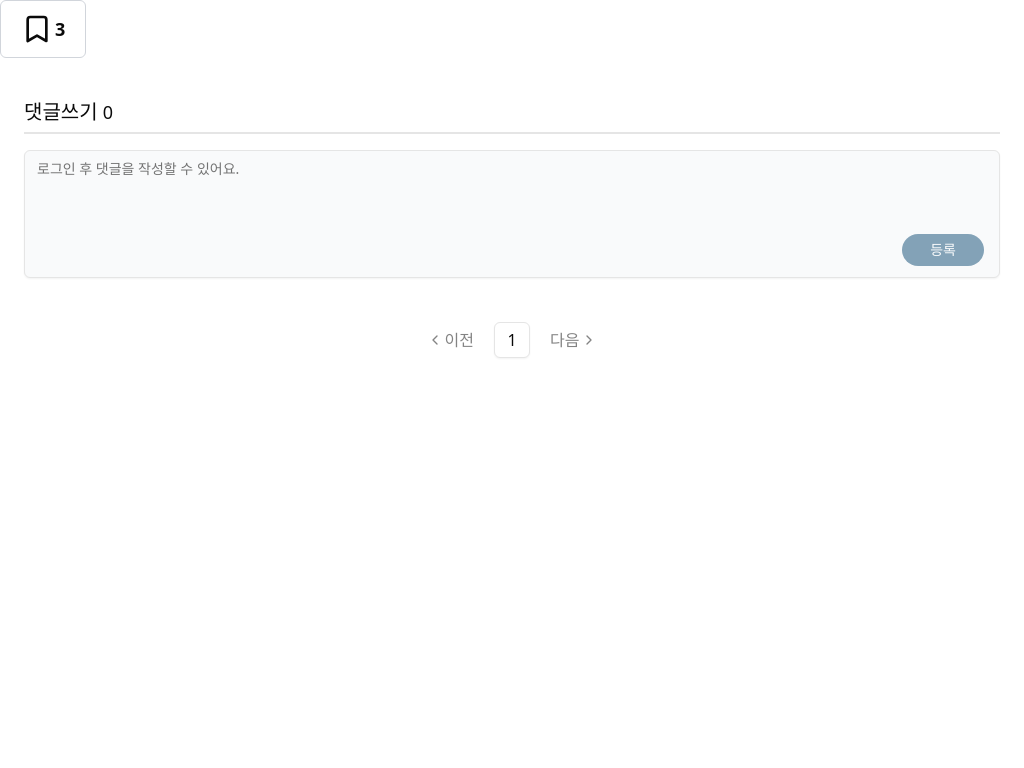
Test: src/views/review/detail/ui/ReviewDetailInteractive.tsx › 기능 테스트 › 로그인 하지 않은 사용자가 북마크, 댓글 영역을 클릭하면 로그인 유도 모달을 표시한다.
Step 1. Click the button named "북마크 추가하기" → click(43, 29), box [0,0,86,58]
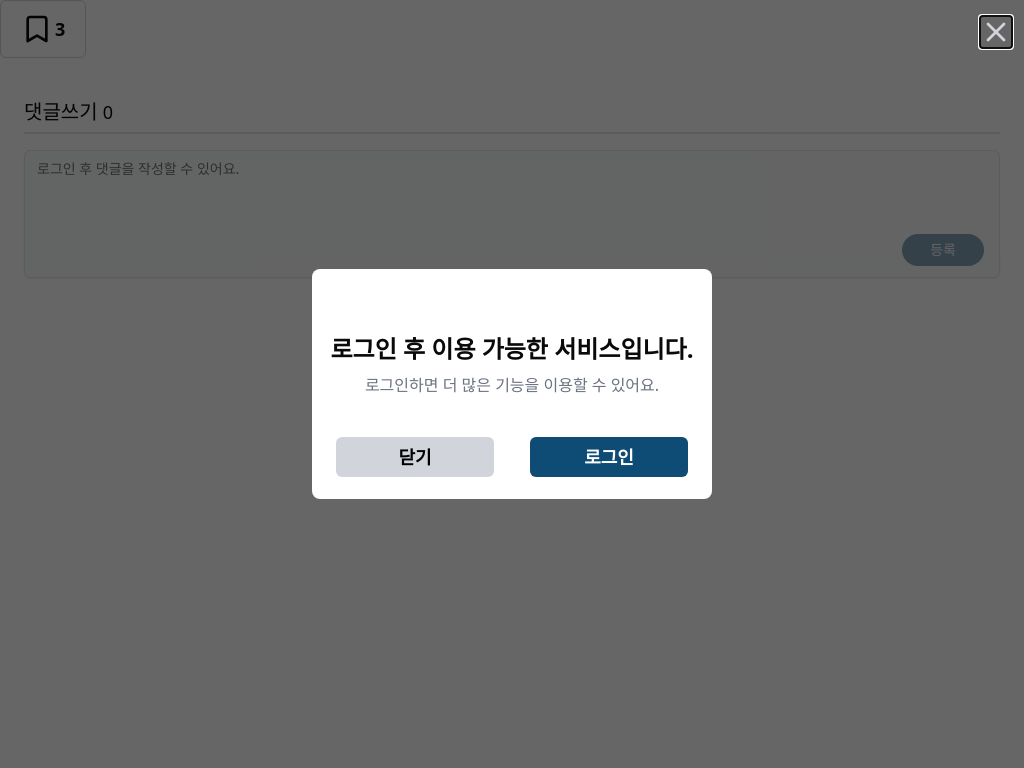
Now the heading "로그인 후 이용 가능한 서비스입니다." is shown, box [330,333,694,365]
Step 2. Click the button "닫기" → click(415, 457), box [336,437,494,477]
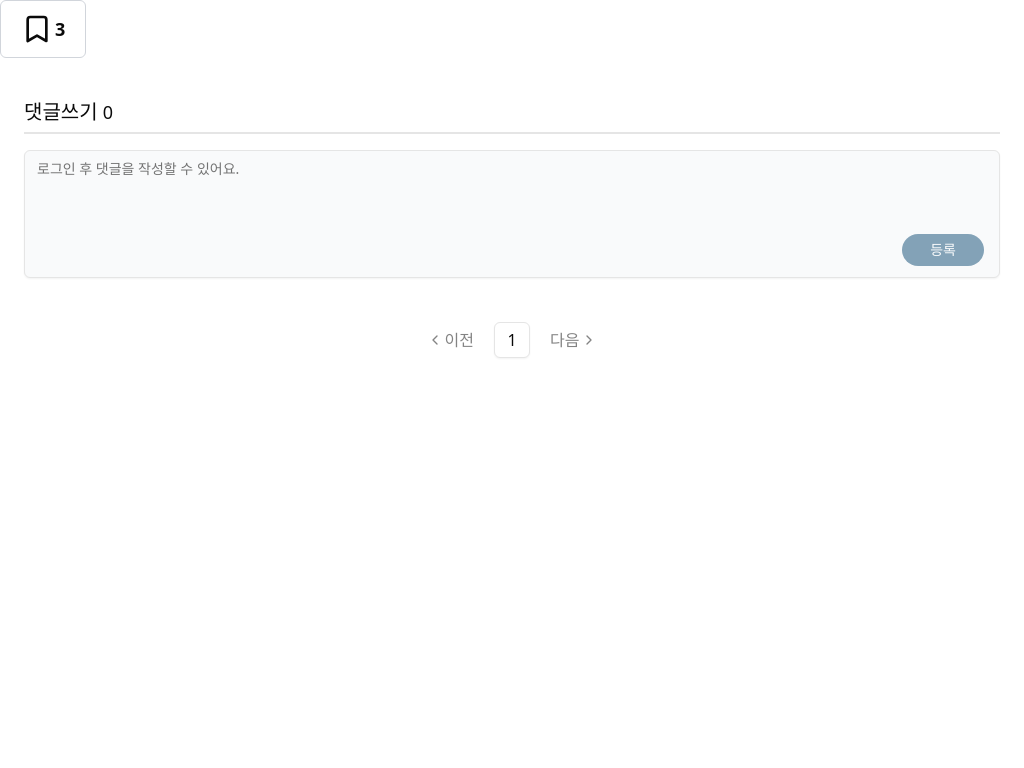
Step 3. Click the text box with placeholder "로그인 후 댓글을 작성할 수 있어요." → click(512, 214), box [24,150,1000,278]
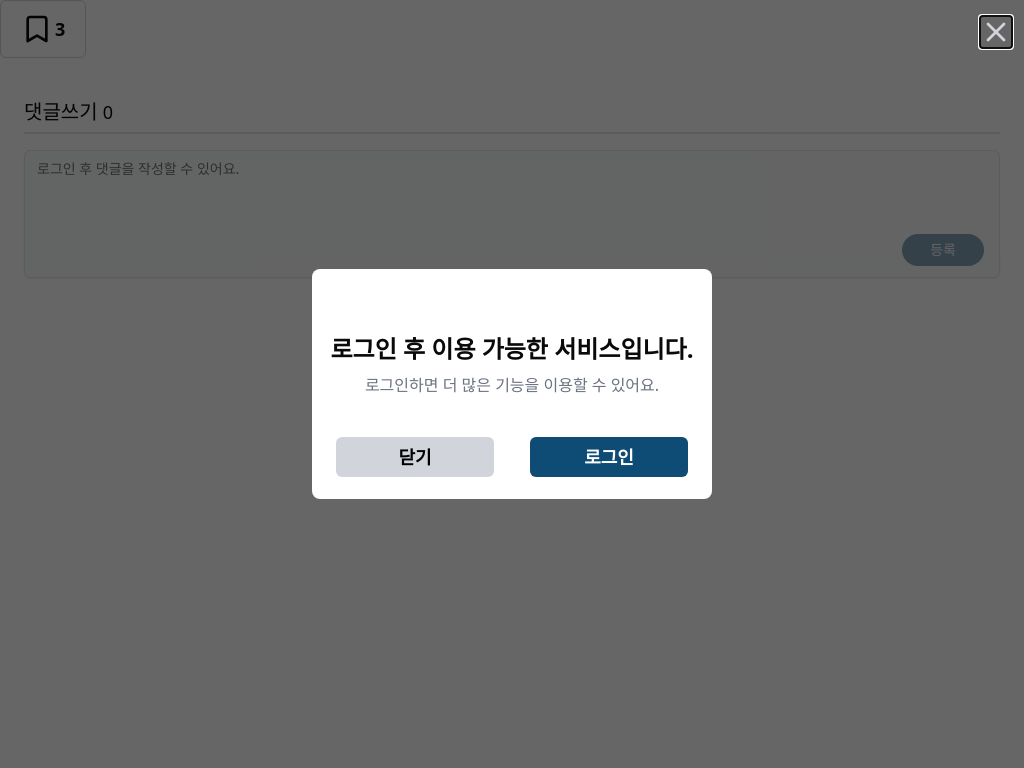
Now the heading "로그인 후 이용 가능한 서비스입니다." is shown, box [330,333,694,365]
